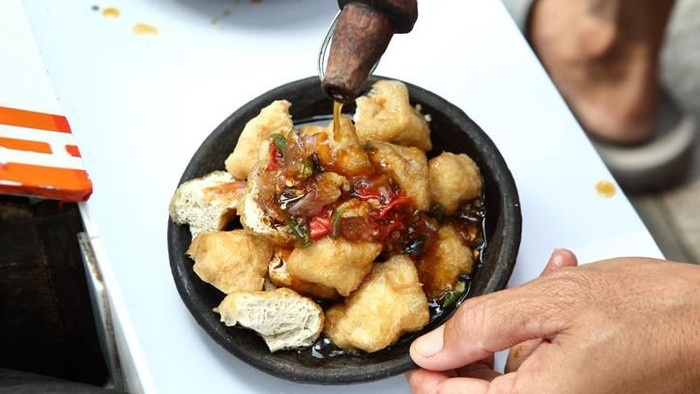tahu_gejrot: (172, 76, 485, 353)
